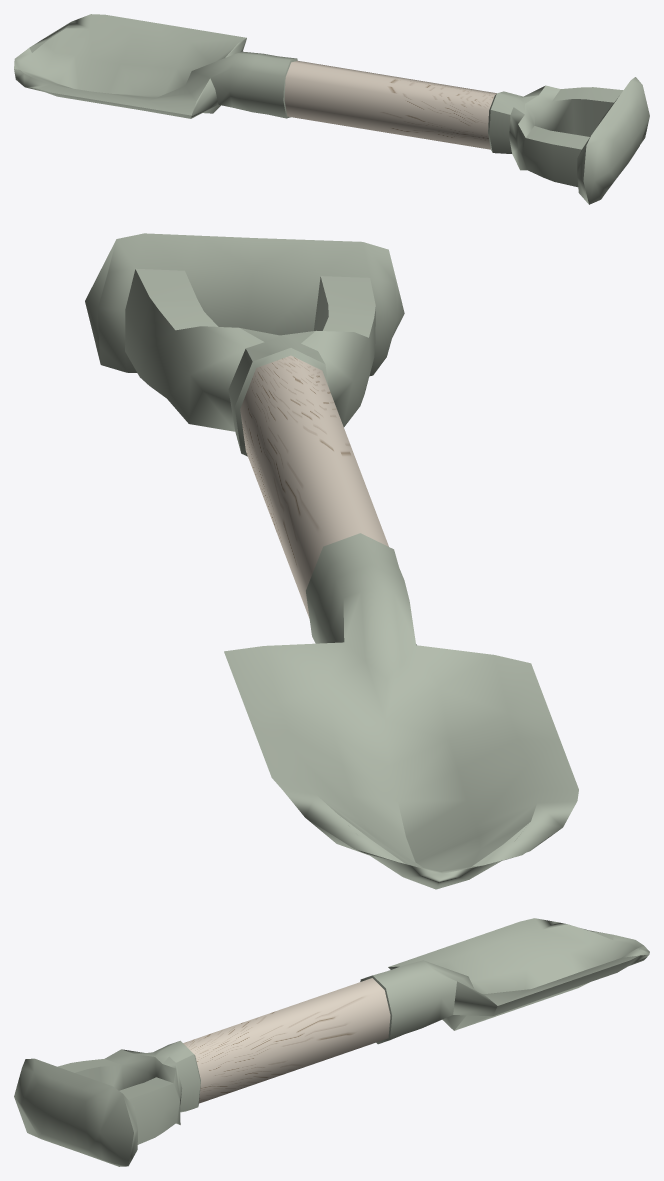
File: shovel.fbx
3 renders of one model, top to bottom at view 1: azimuth 30°, elevation 25°; view 2: azimuth 150°, elevation 25°; view 3: azimuth 270°, elevation 25°, orthographic. The views are drawn at different scales.
Parts seen in each view (by area): view 1: Shovel; view 2: Shovel; view 3: Shovel.
Part boxes in pixels (box(x1,y1,x2,y2)): Shovel: box(14, 14, 649, 204); Shovel: box(85, 233, 578, 889); Shovel: box(14, 918, 649, 1166).
Bounding box in the file's own units: 129 × 23.17 × 148.
